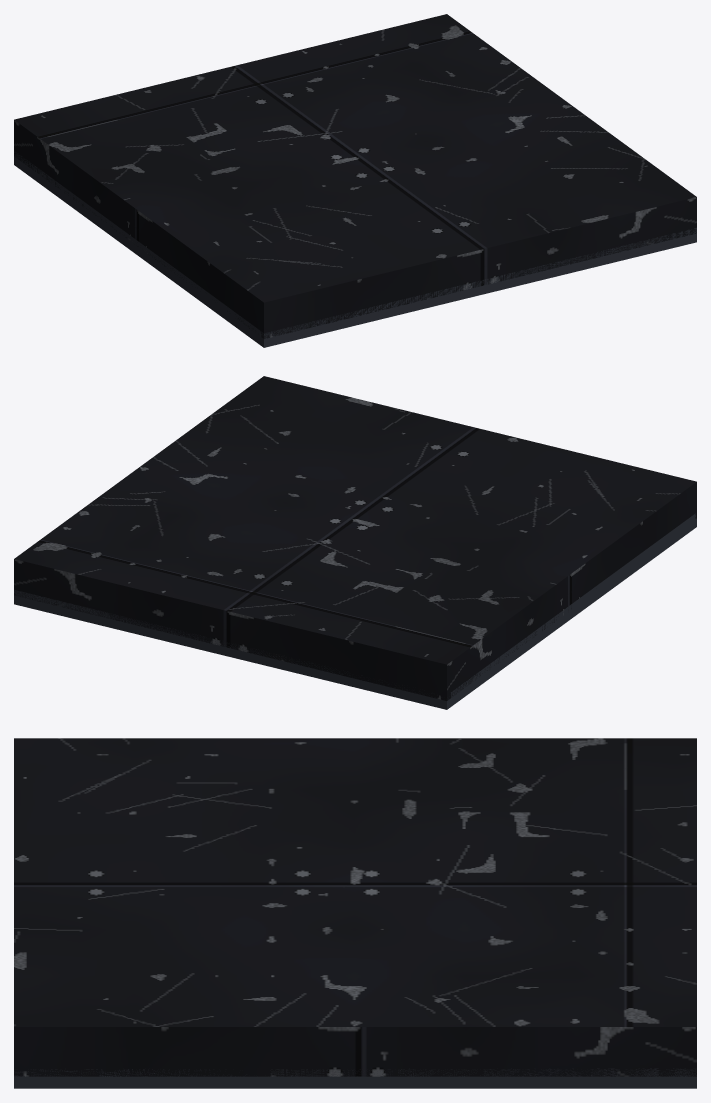
The model's file is Arch_Ceiling_Vent.gltf.
3 renders of one model, top to bottom at view 1: azimuth 30°, elevation 25°; view 2: azimuth 150°, elevation 25°; view 3: azimuth 270°, elevation 25°, orthographic. The views are drawn at different scales.
Visible parts, largest first — view 1: Arch_Ceiling_Vent; view 2: Arch_Ceiling_Vent; view 3: Arch_Ceiling_Vent.
Part boxes in pixels (left/top/right/bottom): Arch_Ceiling_Vent: left=14, top=14, right=696, bottom=347; Arch_Ceiling_Vent: left=14, top=376, right=696, bottom=709; Arch_Ceiling_Vent: left=14, top=738, right=696, bottom=1088.
Size of the model in its own units: 0.62 by 0.062 by 0.62.
2 materials, 1 textured.
